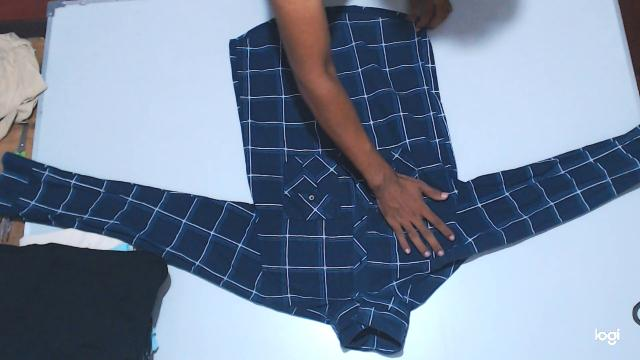new-garment: (0, 6, 640, 353)
